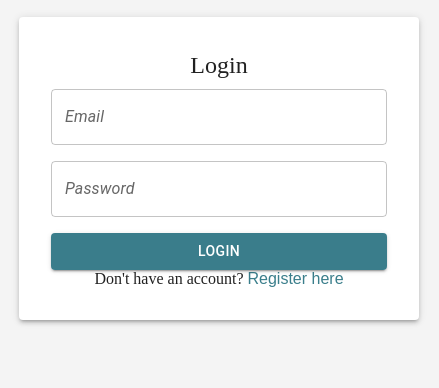
Scenario: LoginForm Component › validates password field
Click the button "Login".
click(219, 252)  # box [51, 233, 387, 270]
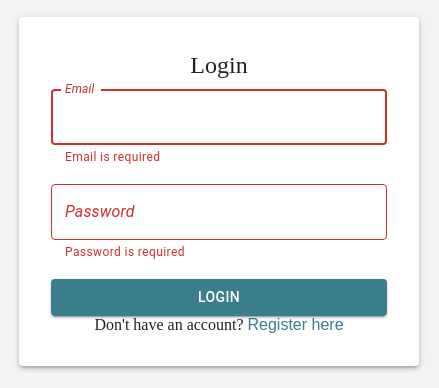
Expected: the text "Password is required" is shown, [65, 245, 185, 259]
